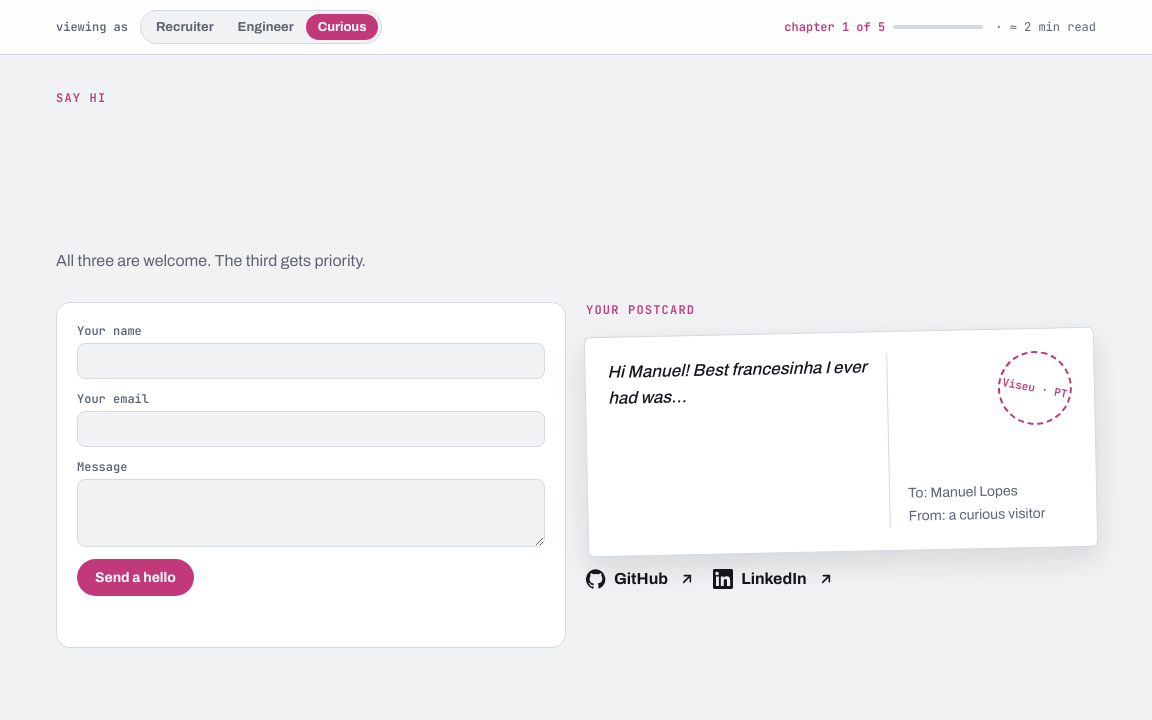
Test: a rejected submission shows the error instead of success
(page scrolled)
Type "Ana" into the field labelled "Your name" at (311, 361), box [77, 343, 545, 379]
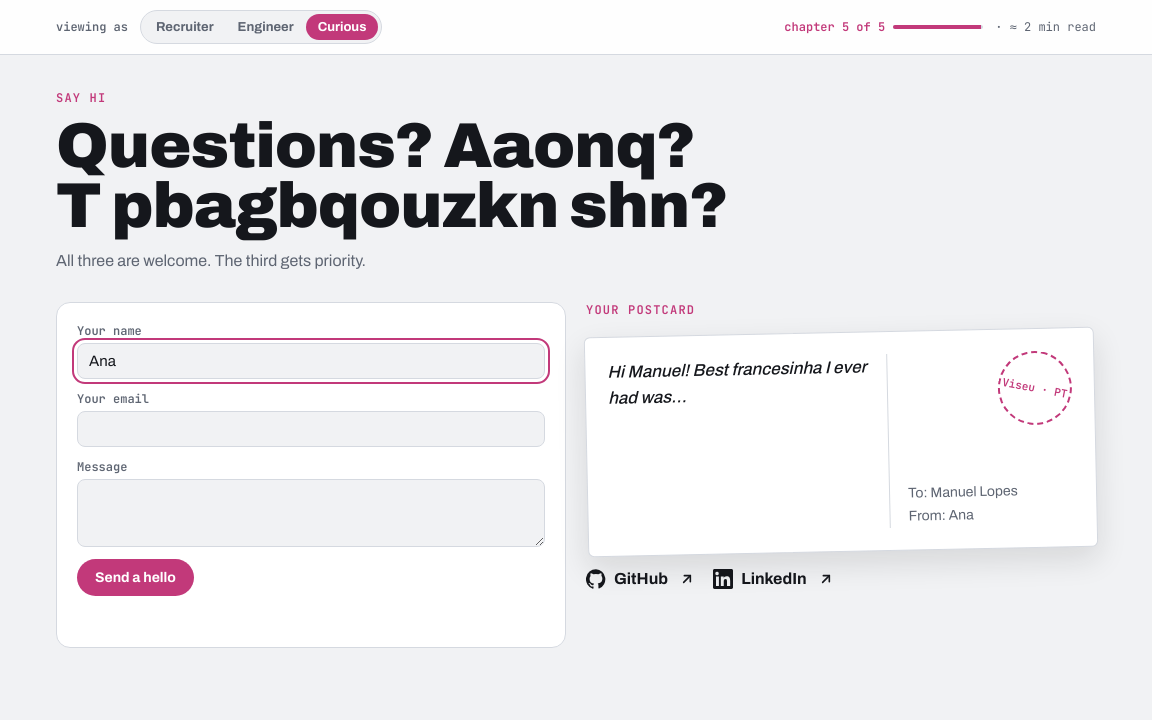
Type "ana@example.com" into the field labelled "Your email" at (311, 429), box [77, 411, 545, 447]
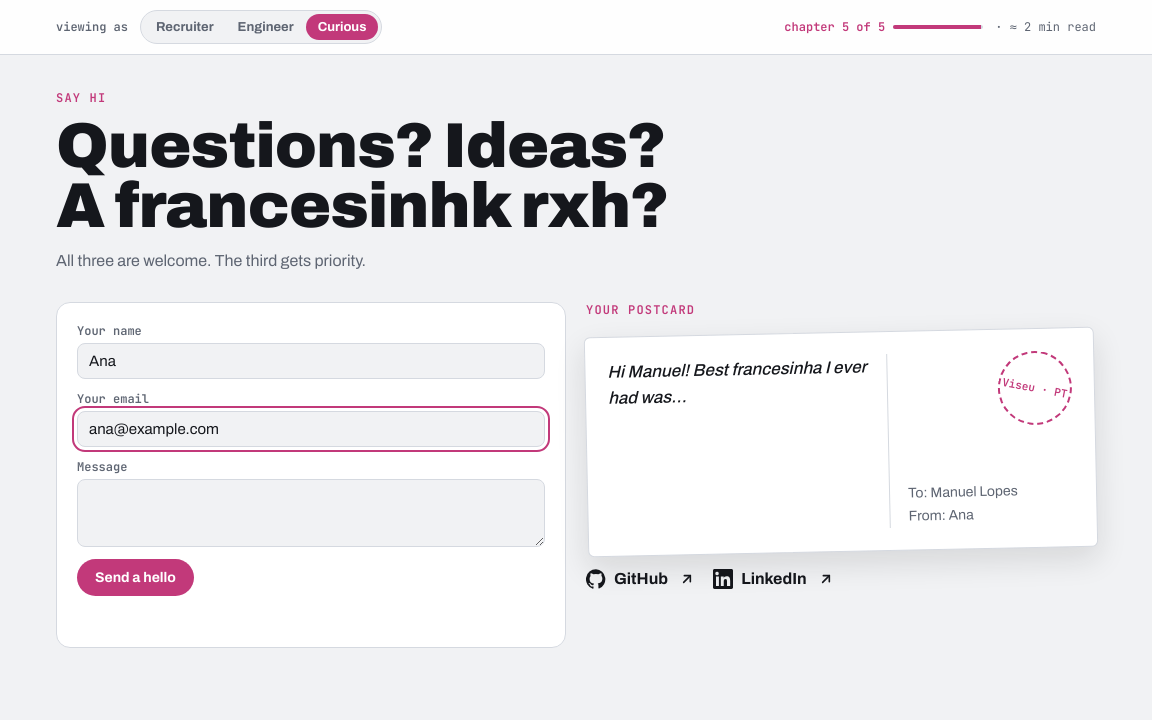
Type "Hello" into the text box labelled "Message" at (311, 513), box [77, 479, 545, 547]
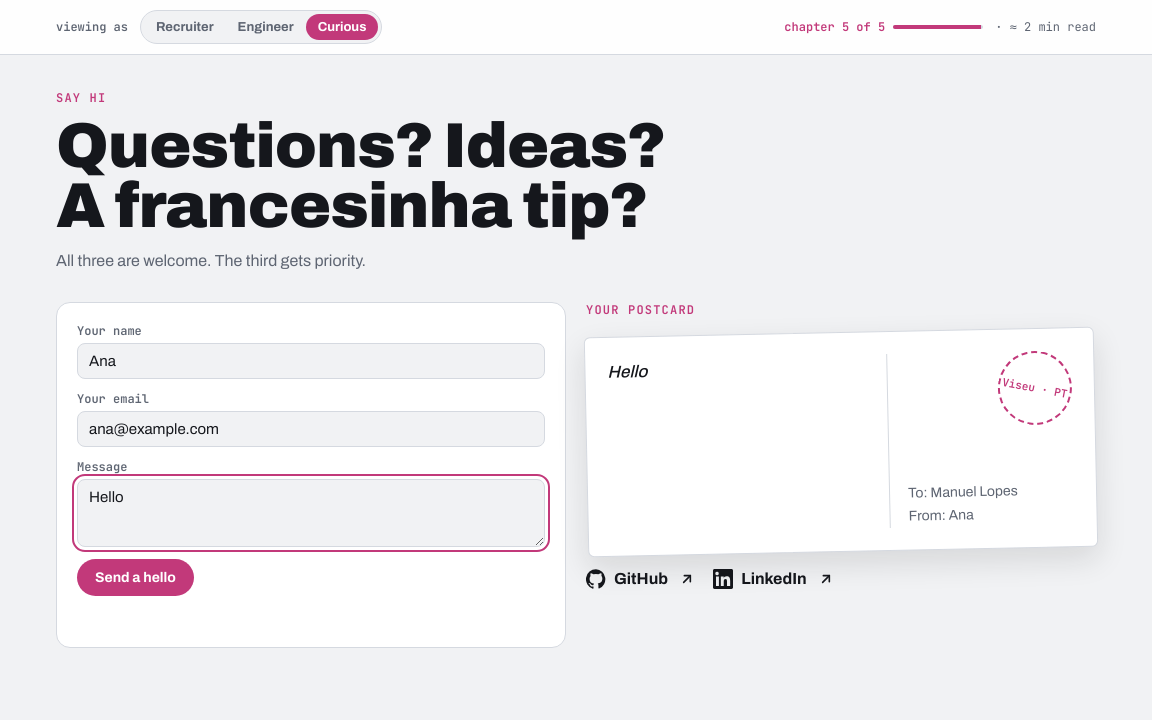
Click the button "Send a hello" at (135, 577), box [77, 559, 194, 596]
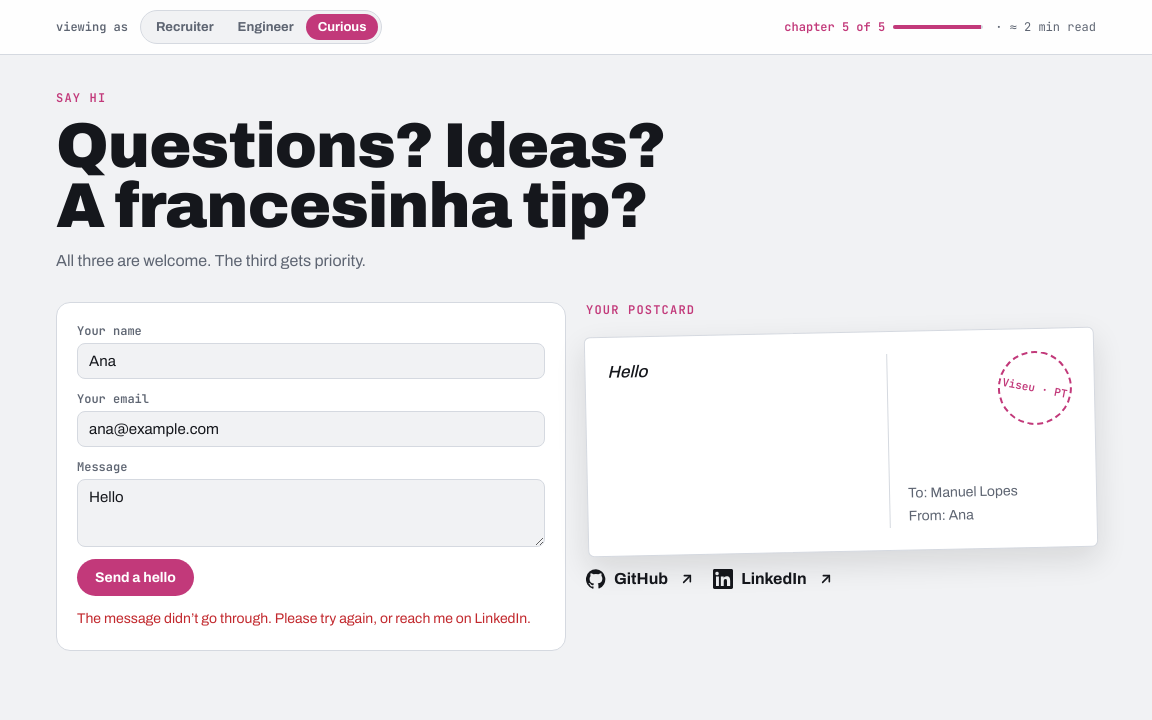
Expected: the message shows "didn’t go through", [77, 611, 531, 626]
